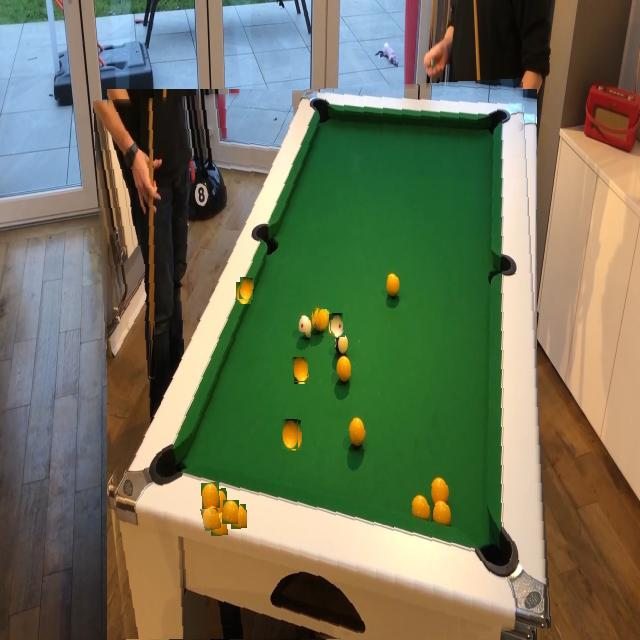Ball: (282, 419, 298, 449), (201, 506, 220, 531), (202, 483, 220, 509), (315, 308, 331, 334), (223, 500, 239, 524), (294, 332, 310, 356), (293, 358, 308, 383), (330, 314, 344, 338), (240, 278, 254, 300)
Billiard table: (99, 83, 544, 640)
